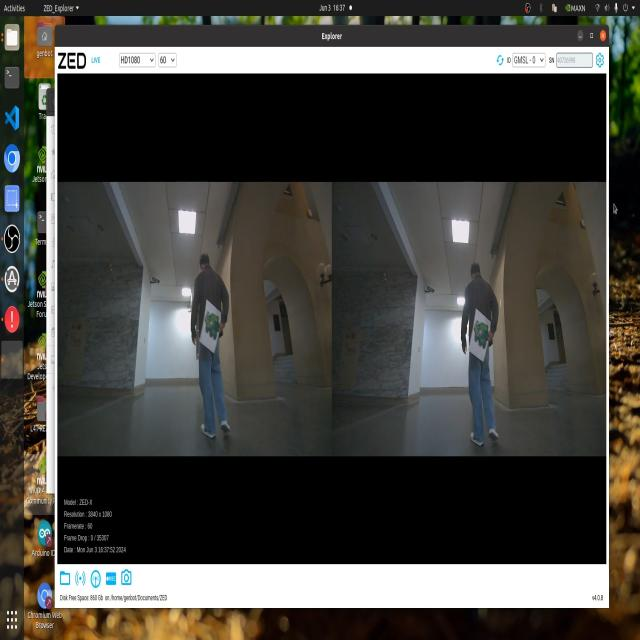green: (197, 310, 225, 350), (473, 316, 495, 362)
